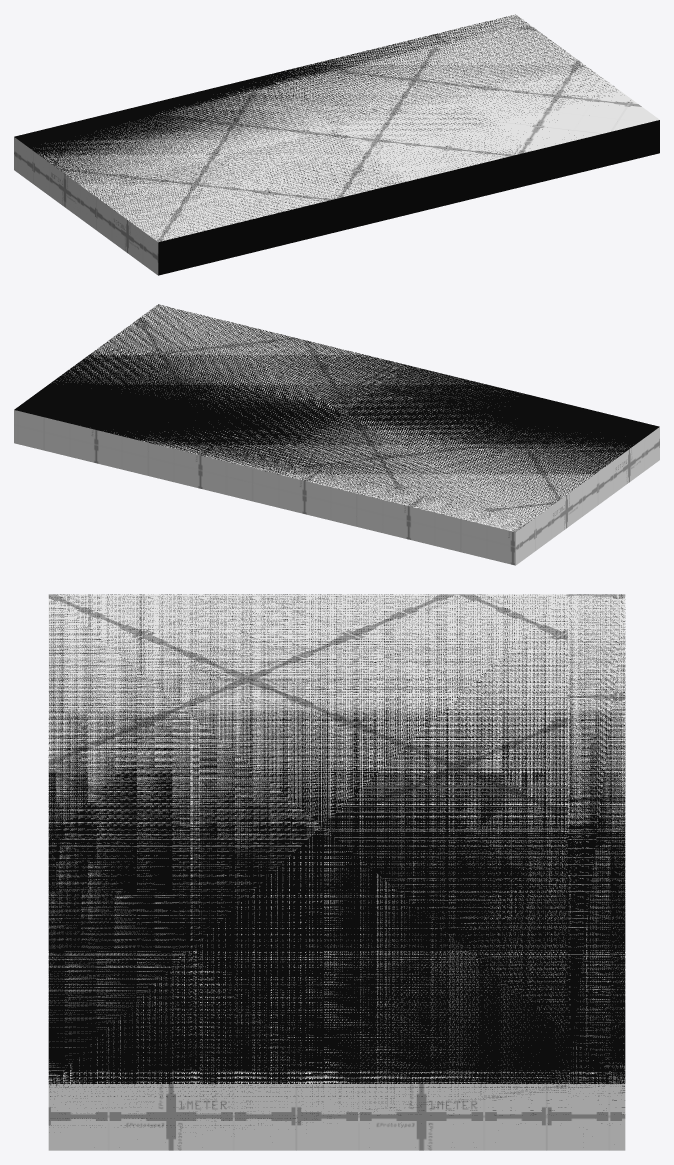
The model's file is ACERA_tramo_Wcollider.fbx.
3 views of the same model, one above another, from view 1: azimuth 30°, elevation 25°; view 2: azimuth 150°, elevation 25°; view 3: azimuth 270°, elevation 25° (orthographic). The views are drawn at different scales.
Visible parts, largest first — view 1: ACERA_tramo, ACERA_tramo_CM; view 2: ACERA_tramo_CM, ACERA_tramo; view 3: ACERA_tramo_CM, ACERA_tramo.
Boxes of the visible parts, <box> form: ACERA_tramo: <box>14,14,659,275</box>; ACERA_tramo_CM: <box>14,14,659,275</box>; ACERA_tramo_CM: <box>14,304,659,531</box>; ACERA_tramo: <box>14,305,659,565</box>; ACERA_tramo_CM: <box>48,594,625,1127</box>; ACERA_tramo: <box>48,594,625,1150</box>.
Bounding box in the file's own units: 4 × 0.2541 × 1.99.
